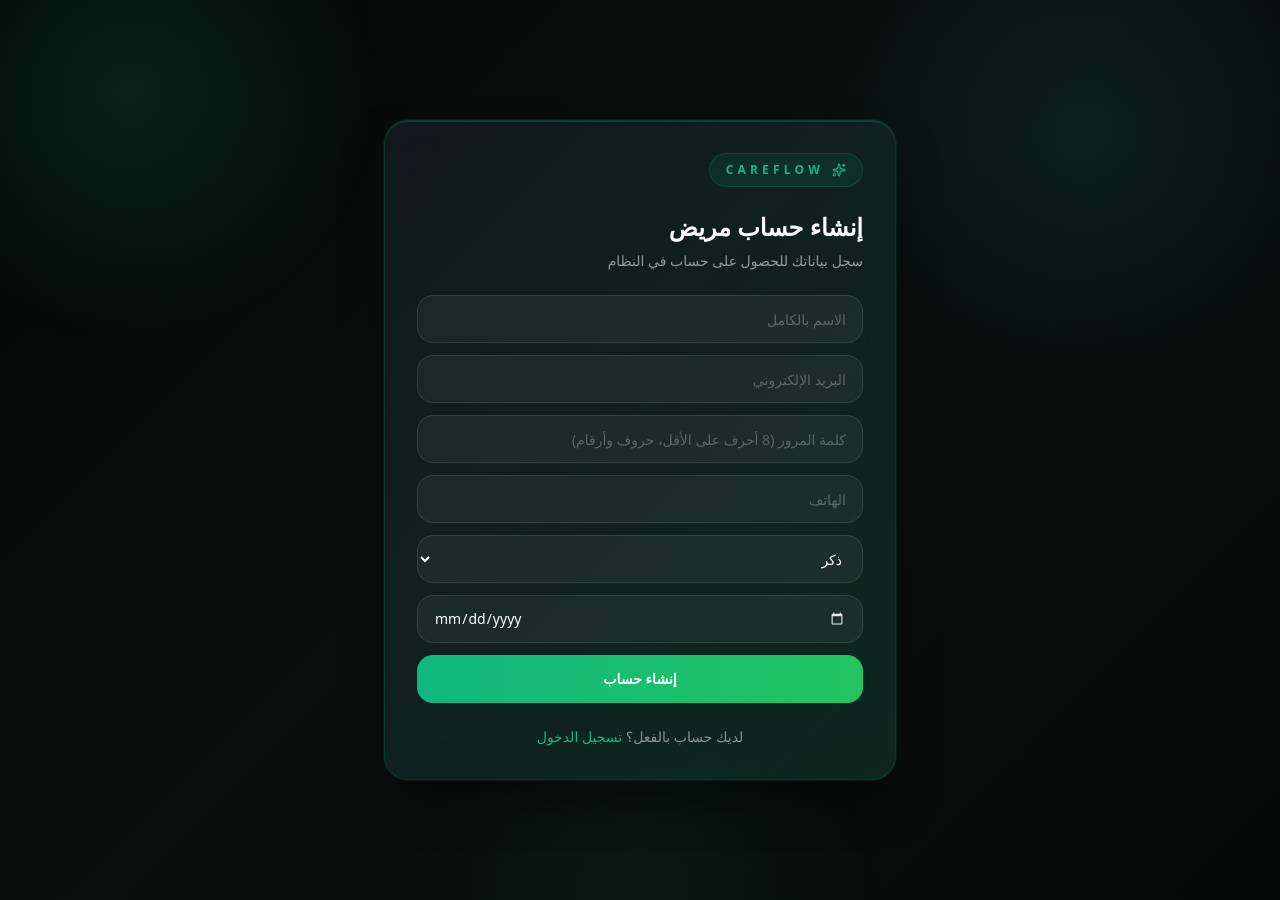
Test: Register Page › shows error when signUp fails
In the field with placeholder "الاسم بالكامل": [640, 319] box [417,295,863,343], type "أحمد محمد"
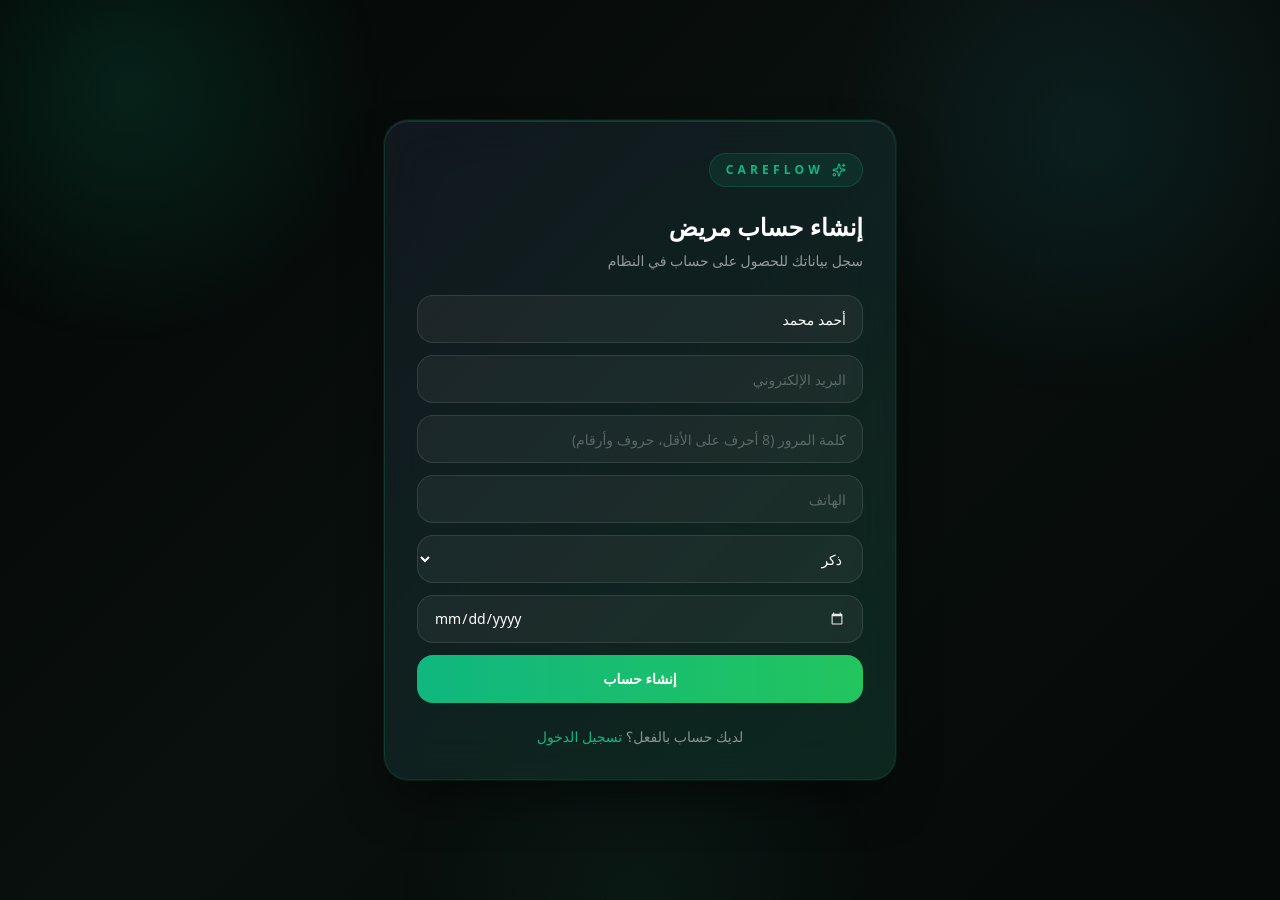
In the field with placeholder "البريد الإلكتروني": [640, 379] box [417,355,863,403], type "ahmed@test.com"
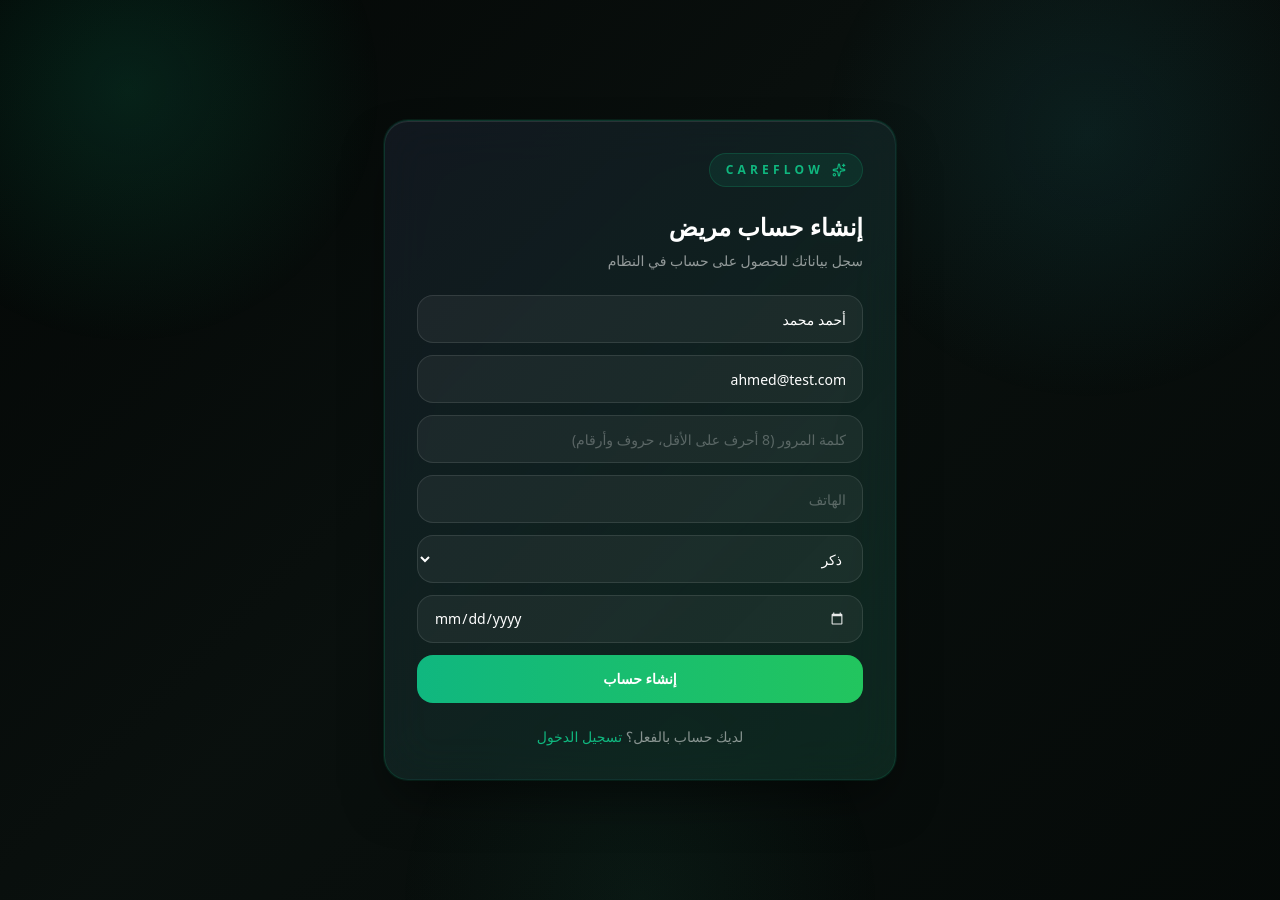
In the password field with placeholder "كلمة المرور (8 أحرف على الأقل، حروف وأرقام)": [640, 439] box [417,415,863,463], type "password123"
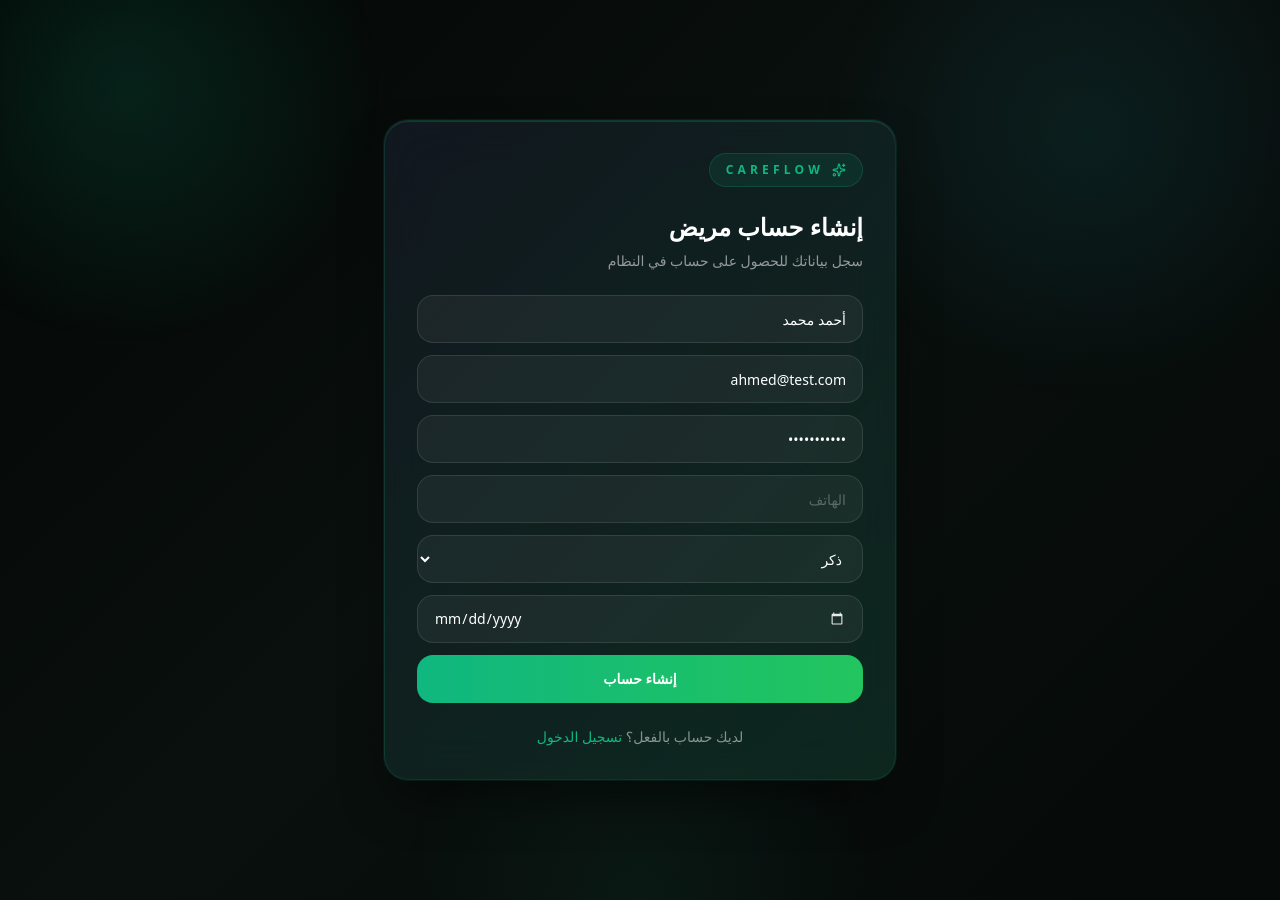
In the field with placeholder "الهاتف": [640, 499] box [417,475,863,523], type "0501234567"
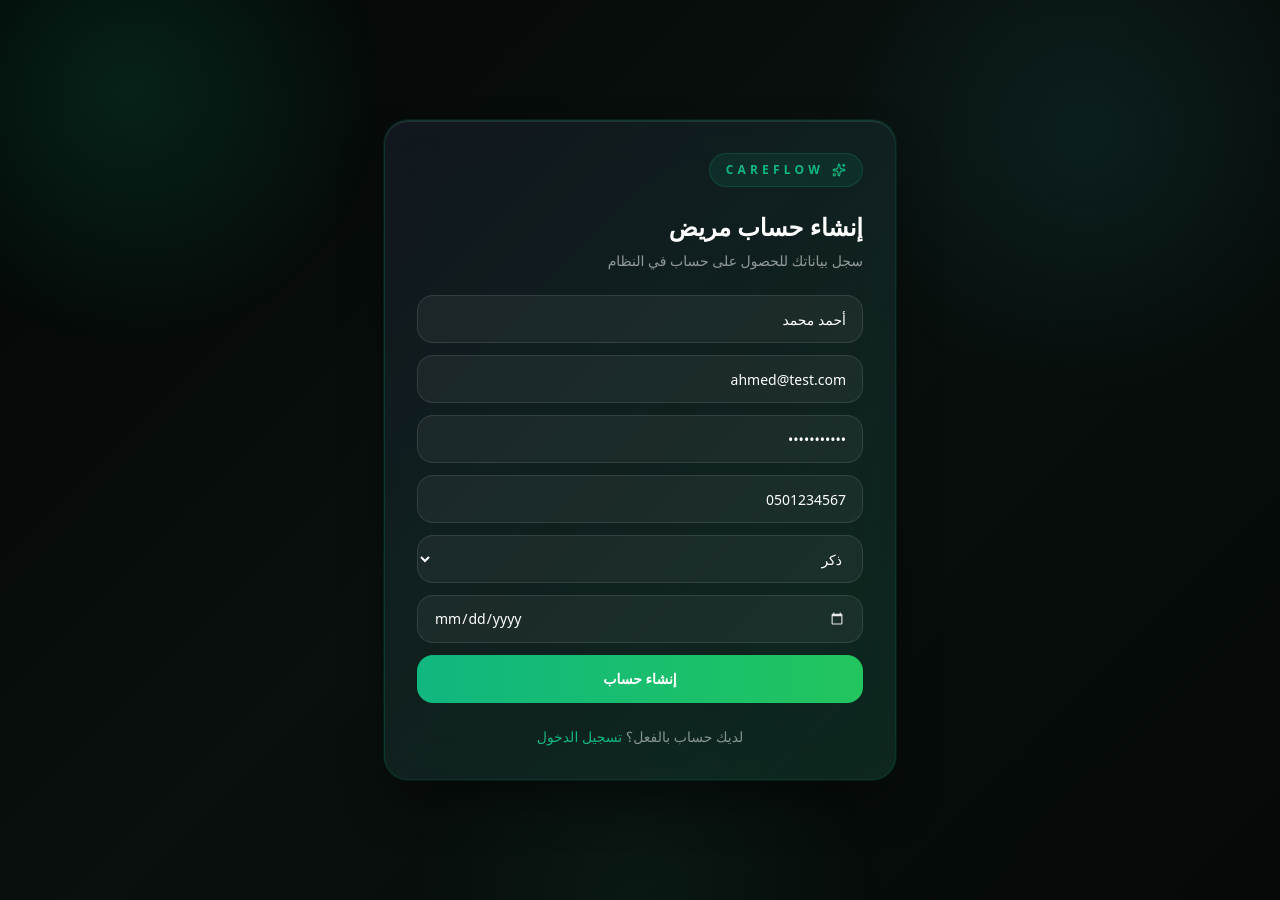
In the date field: [640, 619] box [417,595,863,643], type "1990-01-15"
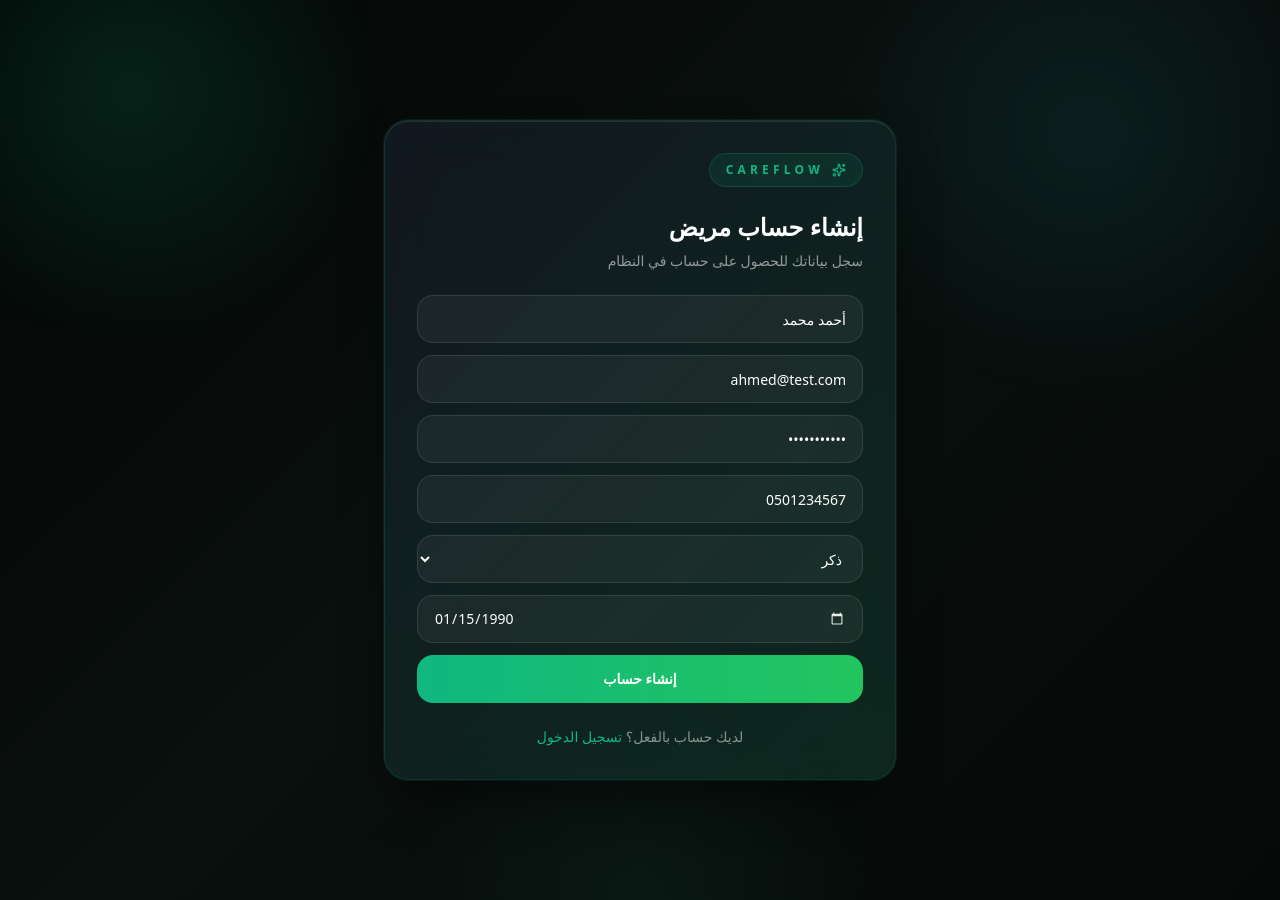
Click the button "إنشاء حساب": [640, 679] box [417,655,863,703]
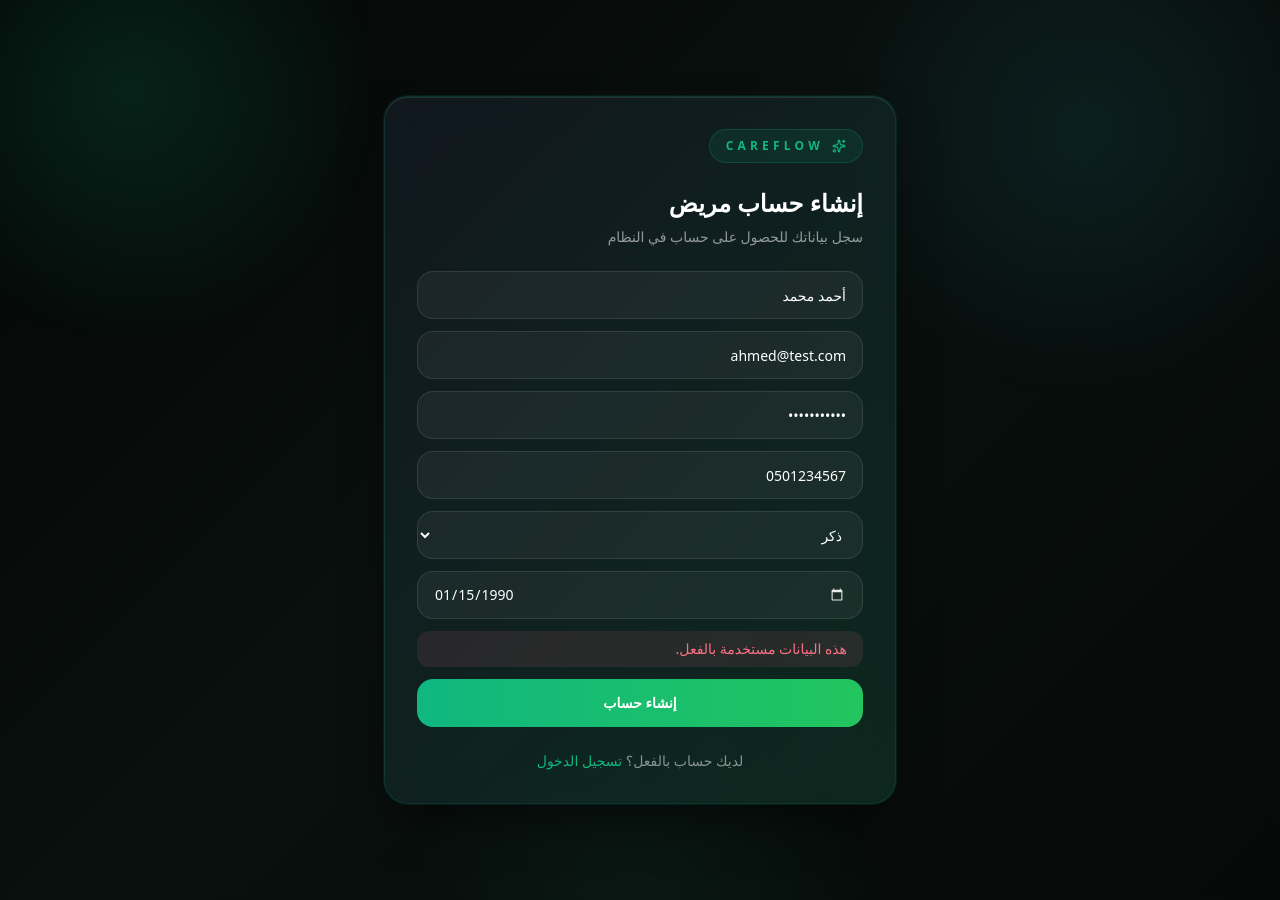
Result: the text "هذه البيانات مستخدمة بالفعل." is shown at [417,631,863,667]
